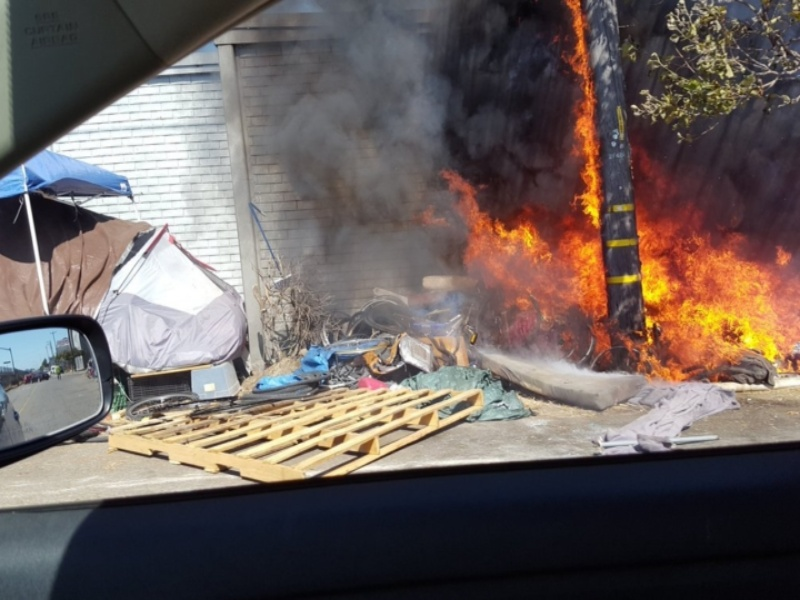smoke: (266, 4, 458, 275)
